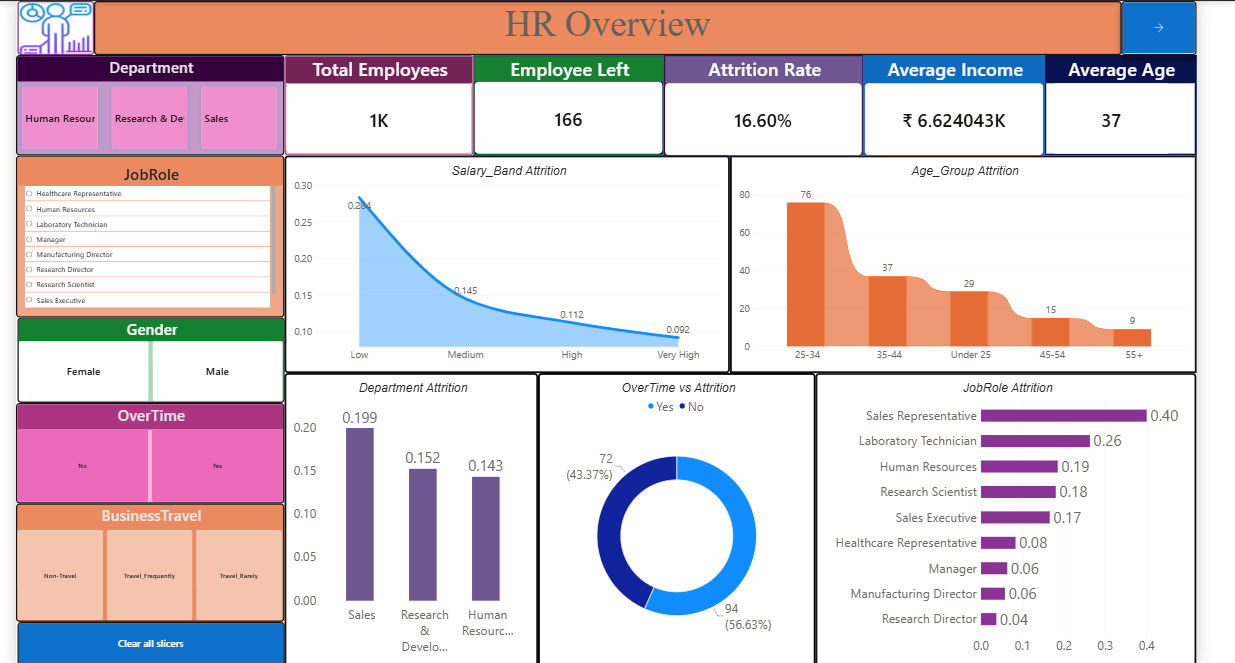

This screenshot's page, from the dashboard's own definition file:
{"tool":"powerbi","page":{"name":"HR Overview","canvas":[2560,1440],"ordinal":0},"visuals":[{"type":"textbox","box":[169.2,0,2228.4,117.1],"z":0},{"type":"cardVisual","title":"Employee Left","fields":{"Data":["HR_Cleaned.Employees Left"]},"box":[992.2,117.1,413.1,218],"z":1000},{"type":"cardVisual","title":"Attrition Rate","fields":{"Data":["HR_Cleaned.Attrition Rate"]},"box":[1405.3,117.1,432.7,221.2],"z":2000},{"type":"cardVisual","title":"Average Income","fields":{"Data":["HR_Cleaned.Average Income"]},"box":[1838,117.1,393.6,221.2],"z":3000},{"type":"cardVisual","title":"Average Age","fields":{"Data":["HR_Cleaned.Average Age"]},"box":[2231.6,117.1,328.6,218],"z":4000},{"type":"advancedSlicerVisual","fields":{"Values":["HR_Cleaned.Department"]},"box":[0,117.1,582.3,218],"z":5000},{"type":"advancedSlicerVisual","fields":{"Values":["HR_Cleaned.Gender"]},"box":[3.3,686.4,579,185.4],"z":6000},{"type":"advancedSlicerVisual","fields":{"Values":["HR_Cleaned.OverTime"]},"box":[0,871.8,582.3,218],"z":7000},{"type":"advancedSlicerVisual","fields":{"Values":["HR_Cleaned.BusinessTravel"]},"box":[0,1089.8,582.3,257],"z":8000},{"type":"clusteredColumnChart","title":"Department Attrition","fields":{"Category":["HR_Cleaned.Department"],"Y":["HR_Cleaned.Attrition Rate"]},"box":[582.3,806.8,549.8,634.4],"z":9000},{"type":"barChart","title":"JobRole Attrition","fields":{"Category":["HR_Cleaned.JobRole"],"Y":["HR_Cleaned.Attrition Rate"]},"box":[1733.9,806.8,826.3,634.4],"z":10000},{"type":"columnChart","title":"Age_Group Attrition","fields":{"Category":["HR_Cleaned.Age_Group"],"Y":["HR_Cleaned.Employees Left"]},"box":[1548.5,335.1,1011.7,471.7],"z":11000},{"type":"donutChart","title":"OverTime vs Attrition","fields":{"Category":["HR_Cleaned.OverTime"],"Y":["HR_Cleaned.Employees Left"]},"box":[1132.1,806.8,601.8,634.4],"z":12000},{"type":"lineChart","title":"Salary_Band Attrition","fields":{"Y":["HR_Cleaned.Attrition Rate"],"Category":["HR_Cleaned.Salary_Band"]},"box":[582.3,335.1,966.2,471.7],"z":13000},{"type":"actionButton","box":[3.3,1346.8,579,94.3],"z":14000},{"type":"cardVisual","title":"Total Employees","fields":{"Data":["HR_Cleaned.Total Employees"]},"box":[582.3,117.1,409.9,218],"z":15000},{"type":"listSlicer","fields":{"Values":["HR_Cleaned.JobRole"]},"box":[0,335.1,582.3,351.3],"z":16000},{"type":"actionButton","box":[2397.5,0,162.7,117.1],"z":17000},{"type":"image","box":[3.3,0,165.9,117.1],"z":17001}]}

Visuals, with their boxes on the page's 2560x1440 design canvas (x1, y1, x2, y2). These are canvas units, not pixel positions in the 1235x663 screenshot, which may show the page scaled, cropped or inside an application window:
textbox: [x1=169, y1=0, x2=2398, y2=117]
"Employee Left" cardVisual: [x1=992, y1=117, x2=1405, y2=335]
"Attrition Rate" cardVisual: [x1=1405, y1=117, x2=1838, y2=338]
"Average Income" cardVisual: [x1=1838, y1=117, x2=2232, y2=338]
"Average Age" cardVisual: [x1=2232, y1=117, x2=2560, y2=335]
advancedSlicerVisual - HR_Cleaned.Department: [x1=0, y1=117, x2=582, y2=335]
advancedSlicerVisual - HR_Cleaned.Gender: [x1=3, y1=686, x2=582, y2=872]
advancedSlicerVisual - HR_Cleaned.OverTime: [x1=0, y1=872, x2=582, y2=1090]
advancedSlicerVisual - HR_Cleaned.BusinessTravel: [x1=0, y1=1090, x2=582, y2=1347]
"Department Attrition" clusteredColumnChart: [x1=582, y1=807, x2=1132, y2=1441]
"JobRole Attrition" barChart: [x1=1734, y1=807, x2=2560, y2=1441]
"Age_Group Attrition" columnChart: [x1=1548, y1=335, x2=2560, y2=807]
"OverTime vs Attrition" donutChart: [x1=1132, y1=807, x2=1734, y2=1441]
"Salary_Band Attrition" lineChart: [x1=582, y1=335, x2=1548, y2=807]
actionButton: [x1=3, y1=1347, x2=582, y2=1441]
"Total Employees" cardVisual: [x1=582, y1=117, x2=992, y2=335]
listSlicer - HR_Cleaned.JobRole: [x1=0, y1=335, x2=582, y2=686]
actionButton: [x1=2398, y1=0, x2=2560, y2=117]
image: [x1=3, y1=0, x2=169, y2=117]
